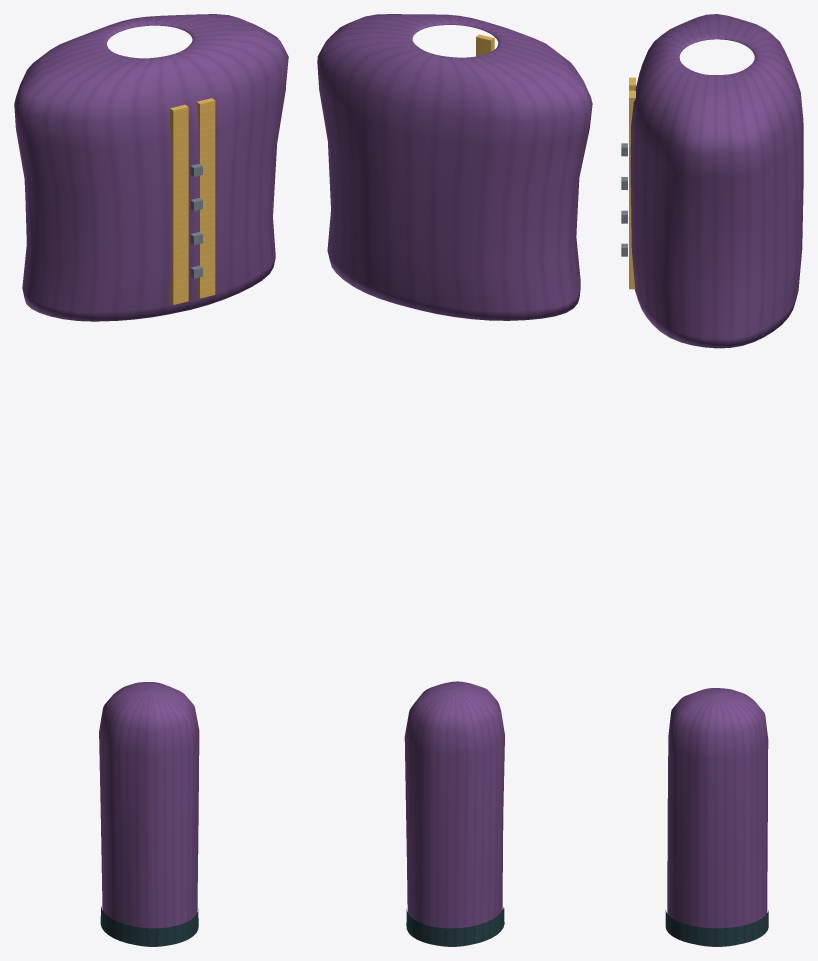
File: alumni_cardigan.gltf
3 views of the same model, side by side, from view 1: azimuth 30°, elevation 25°; view 2: azimuth 150°, elevation 25°; view 3: azimuth 270°, elevation 25° (orthographic).
Parts seen in each view (by area): view 1: Torso, SleeveL; view 2: Torso, SleeveL; view 3: Torso, SleeveL.
Part boxes in pixels (<box>): Torso: <box>14,14,288,321</box>; SleeveL: <box>99,682,199,946</box>; Torso: <box>317,14,592,320</box>; SleeveL: <box>404,681,504,946</box>; Torso: <box>621,14,803,348</box>; SleeveL: <box>665,688,768,946</box>.
Bounding box in the file's own units: 0.5276 × 1.72 × 0.3253.
4 materials, 4 textured.
